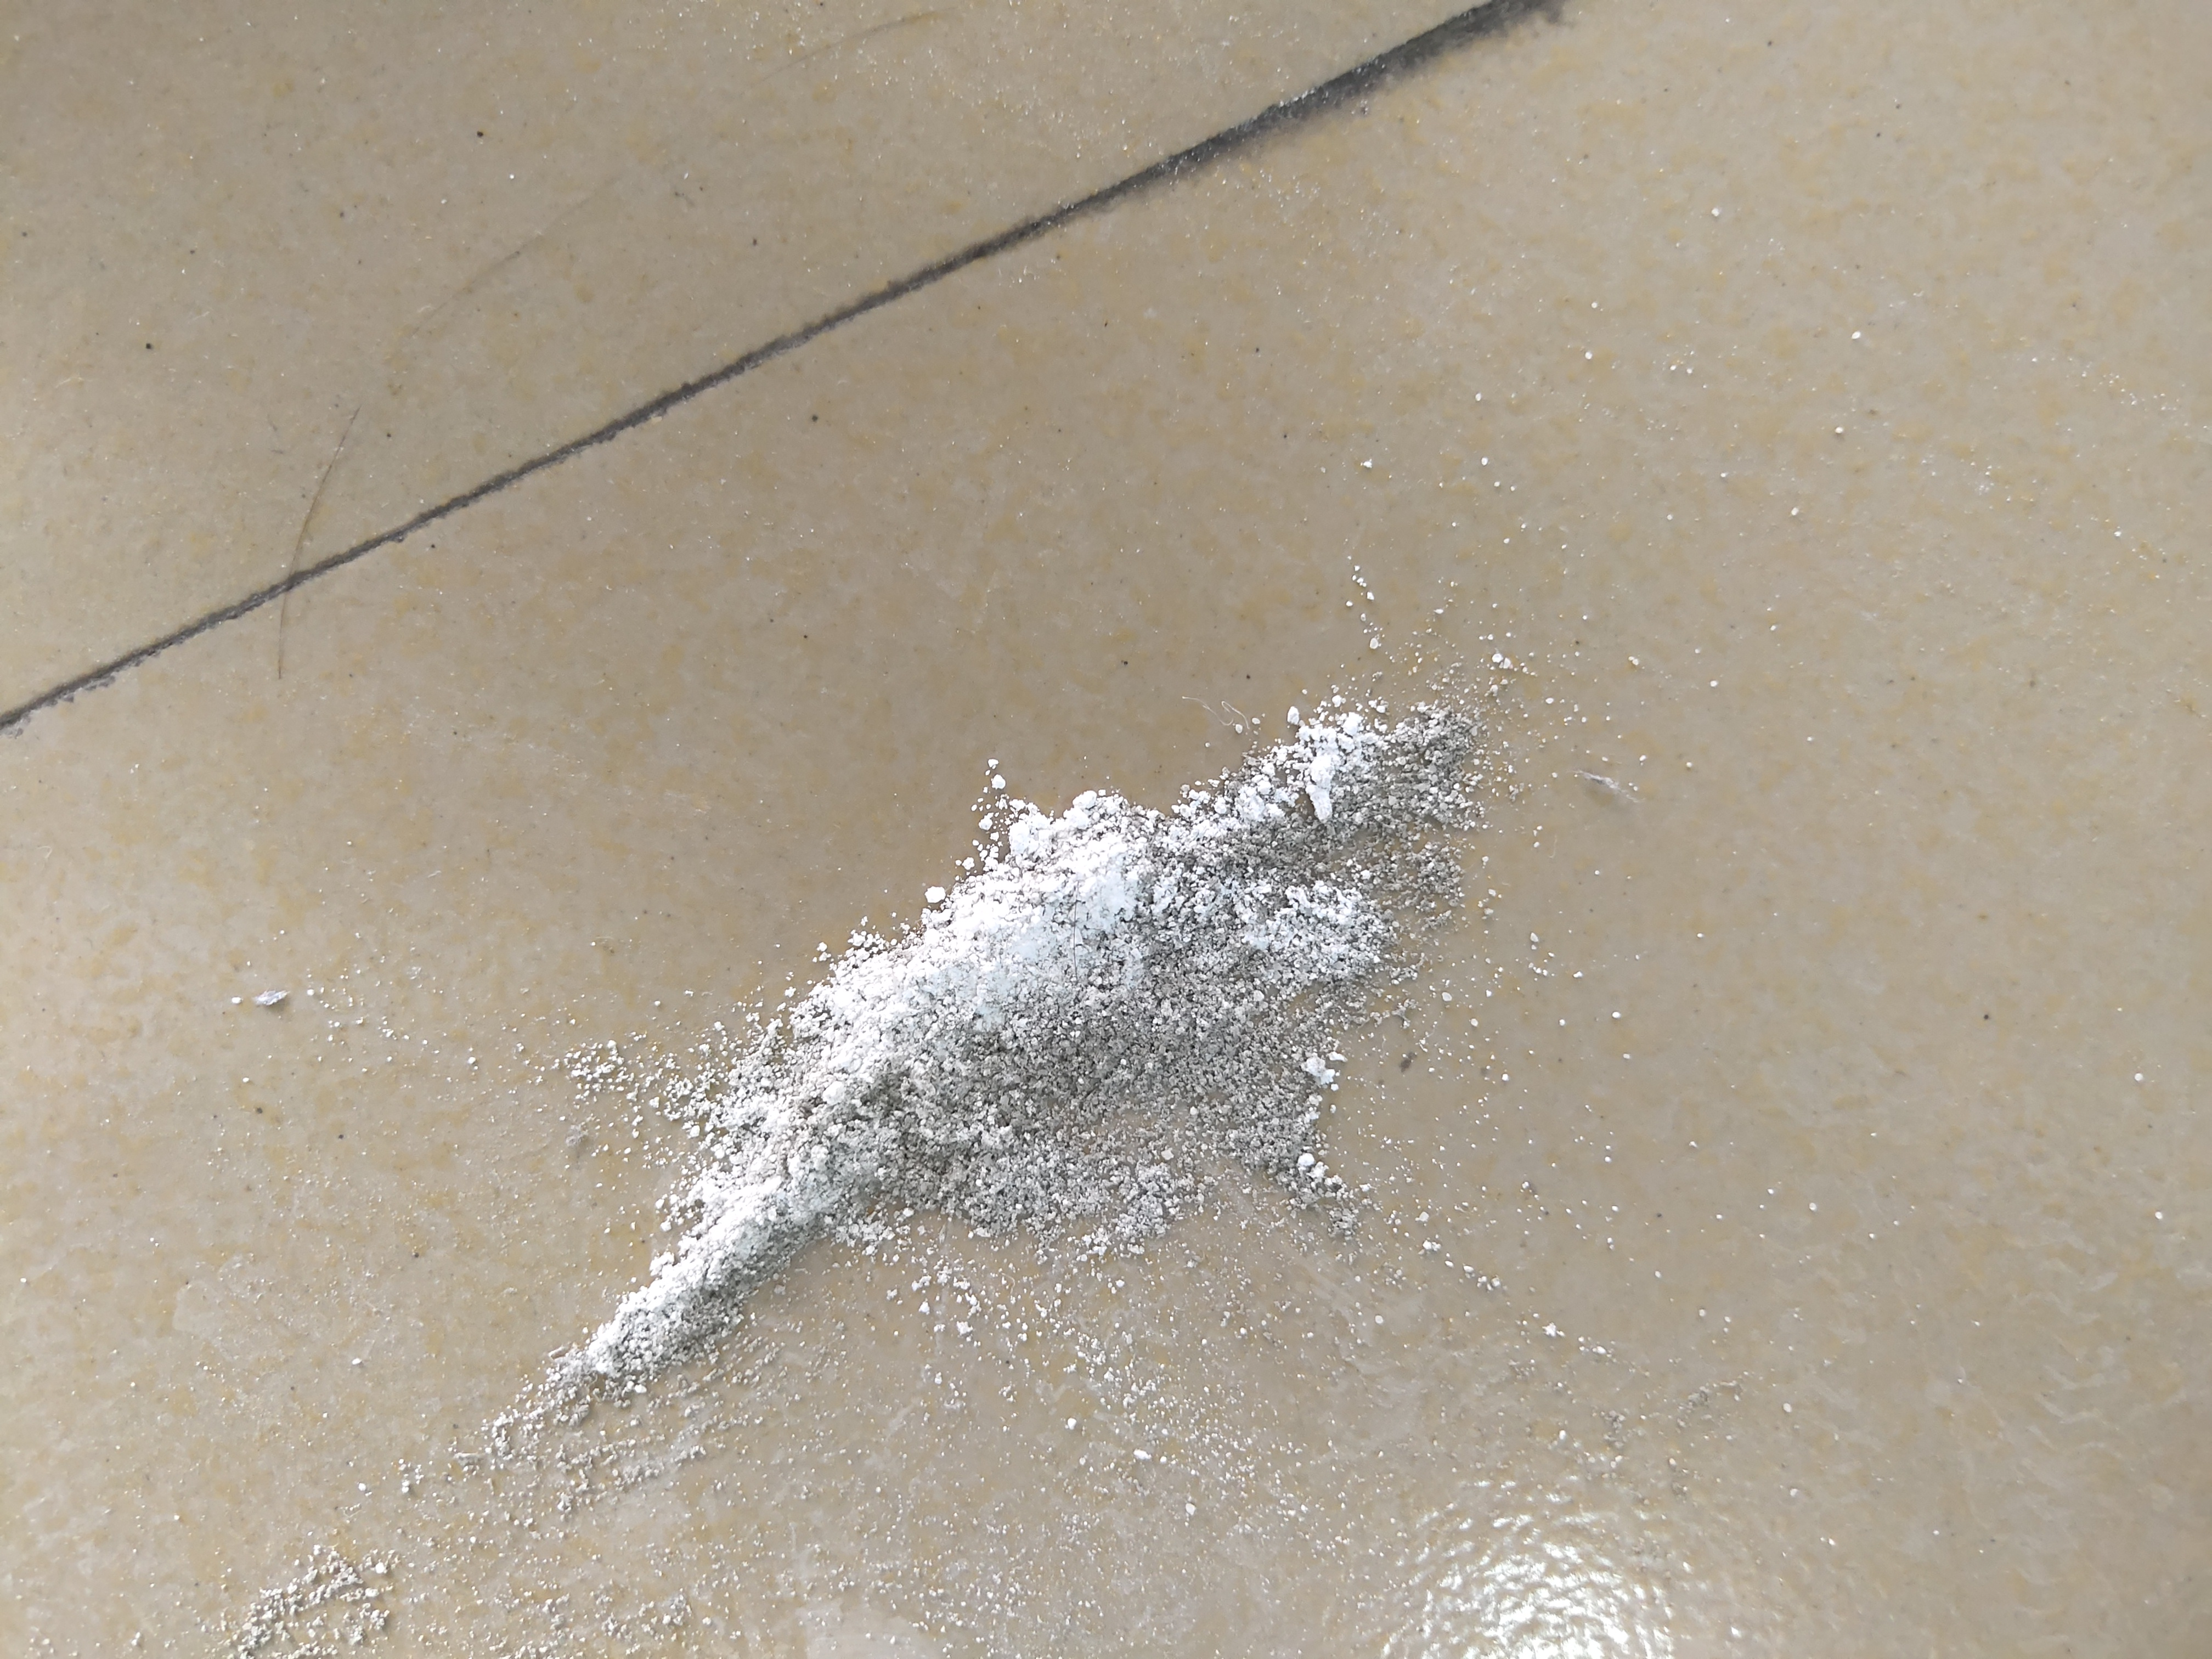ash pile: (475, 634, 1519, 1473)
reflection: (1399, 1499, 1688, 1659)
